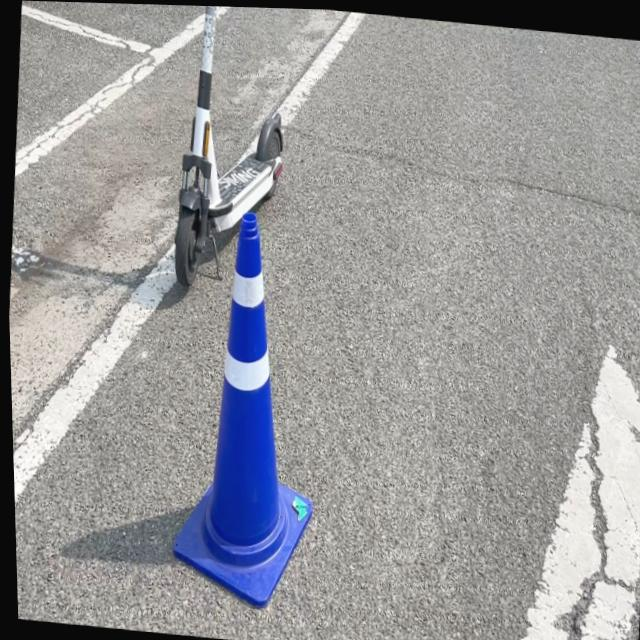b_rub: (170, 209, 309, 605)
